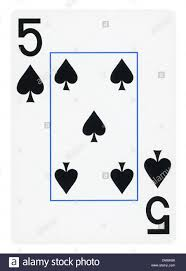five of spades: (10, 10, 177, 245)
